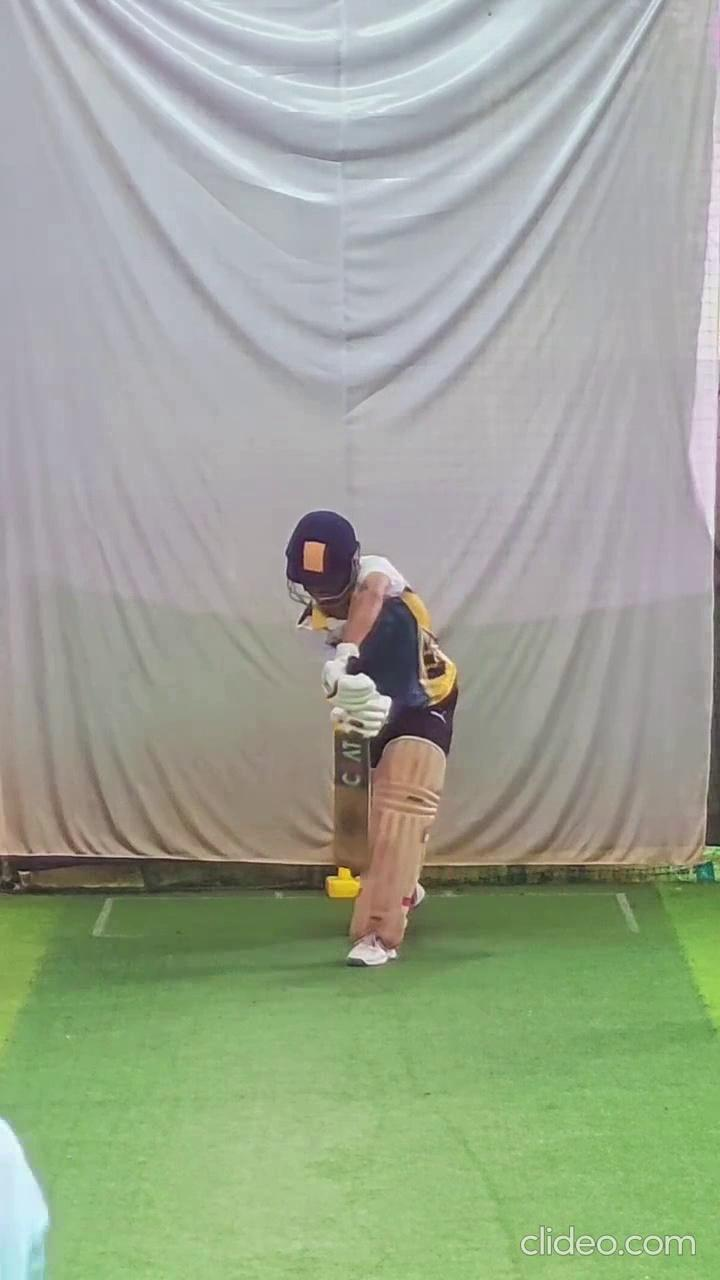bat: (332, 731, 369, 873)
